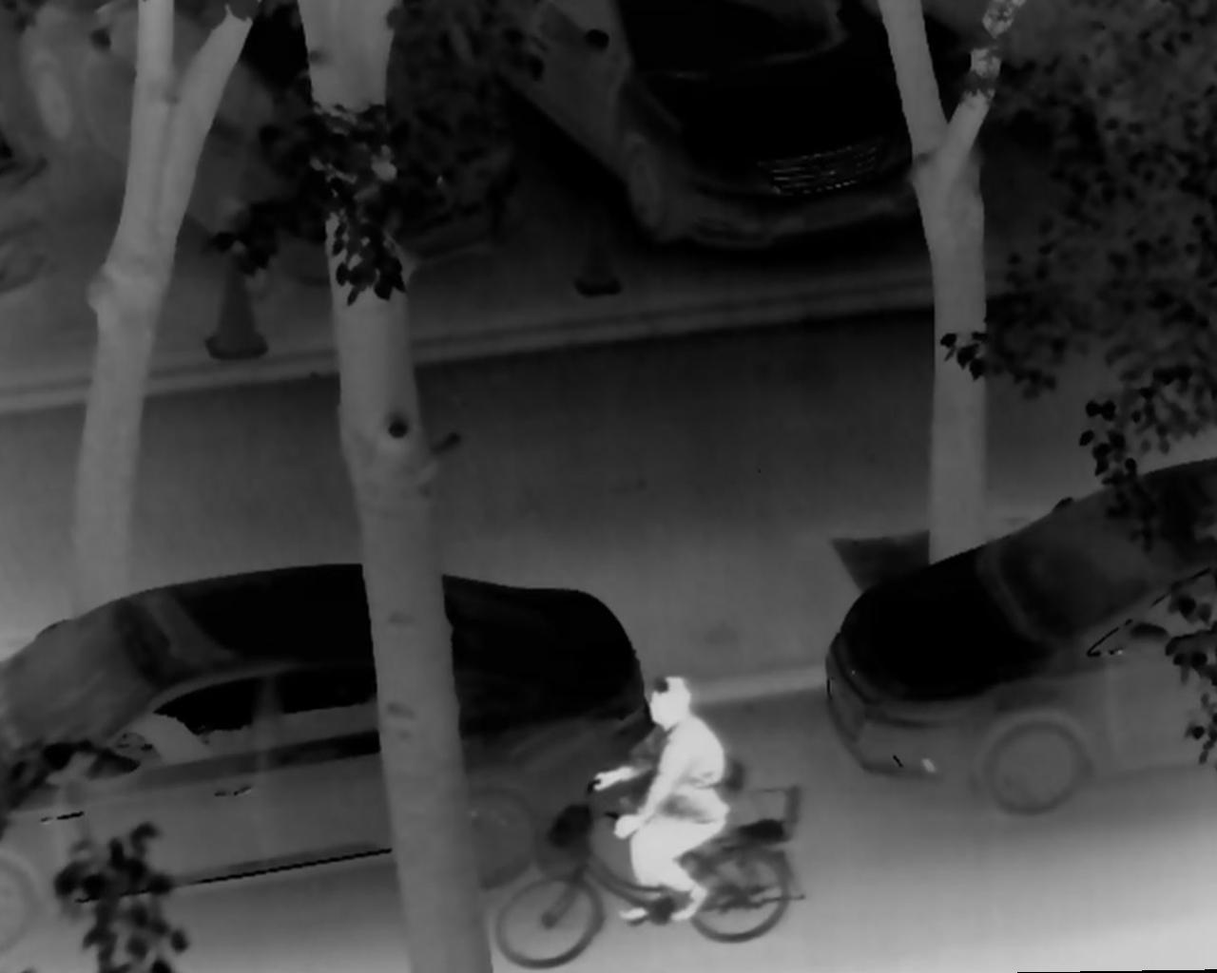person: (587, 669, 739, 930)
